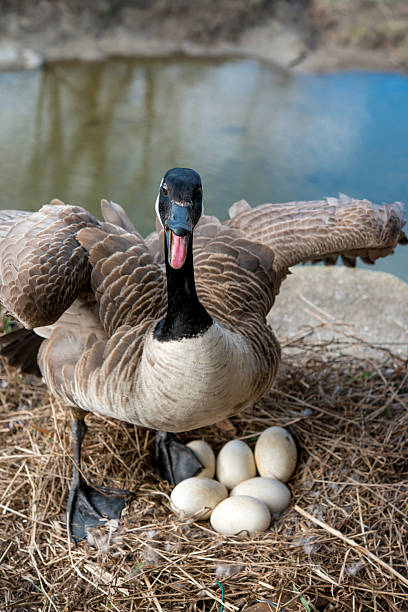goose: (1, 166, 405, 541)
